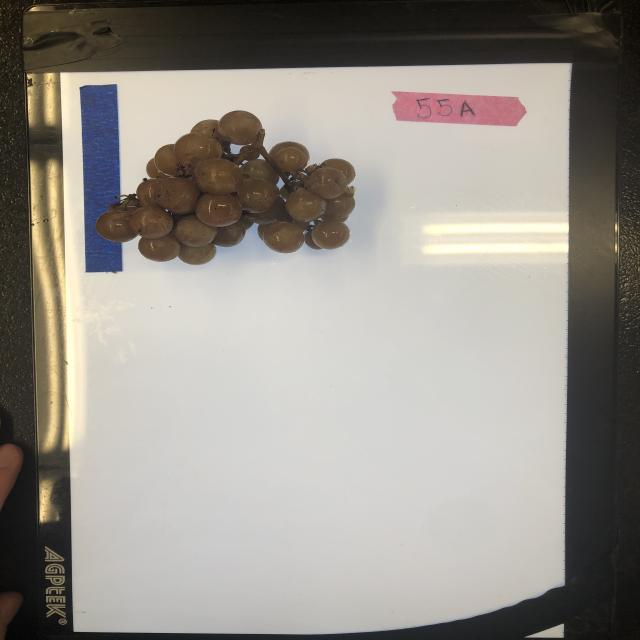grape_cluster: (97, 107, 358, 266)
index: (392, 88, 529, 129)
measure_label: (82, 83, 124, 273)
